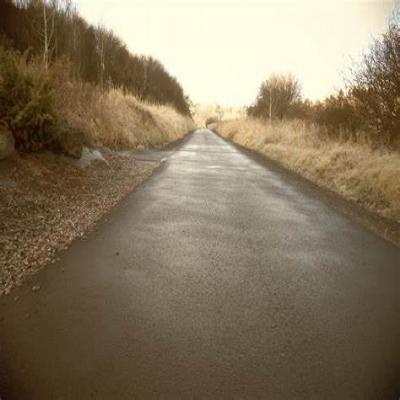clear-road: (0, 130, 400, 399)
